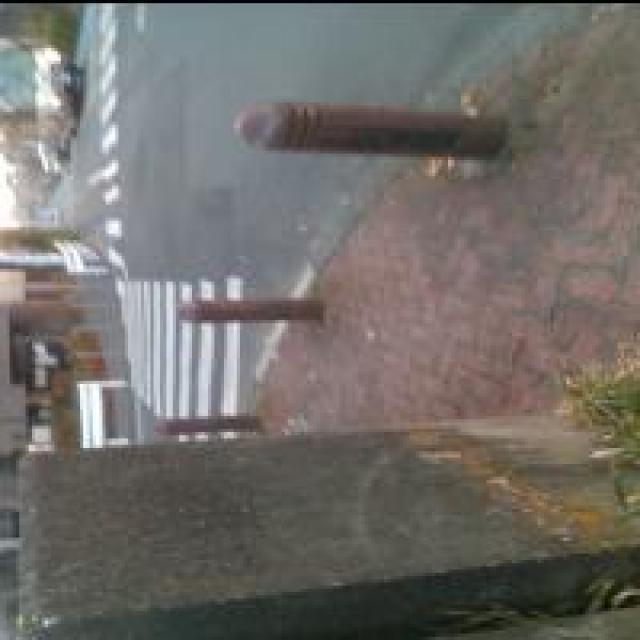Obstacle: (24, 433, 552, 619), (409, 431, 639, 548), (236, 102, 508, 160), (566, 357, 639, 514), (181, 297, 324, 322), (156, 416, 261, 435)
Road: (117, 5, 470, 293), (50, 5, 143, 270), (121, 280, 284, 420)
Sidewalk: (259, 11, 639, 433)
